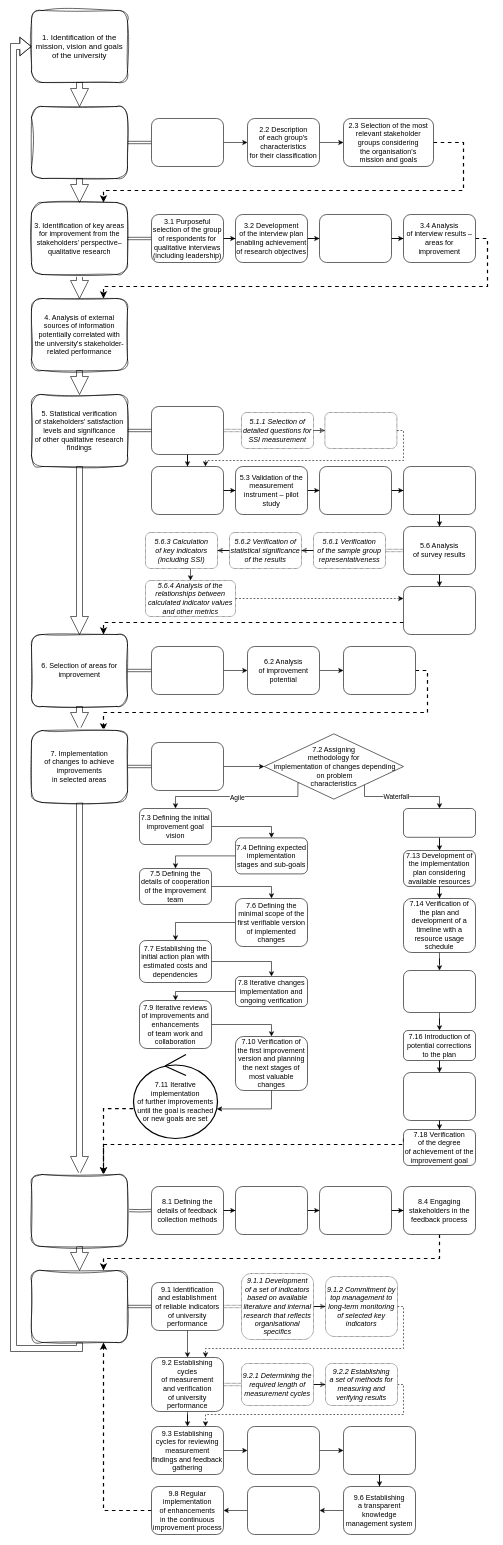
This 503x1545 diagram has some shape labels left out. The shapes that lost their labels are listed below. From the top down, each one's centre as x and y in pixels, then its label:
At [79,142]: "2. Identyfication of key stakeholders".
At [187,142]: "2.1 Analysis of the broad spectrum of potential university stakeholders".
At [355,238]: "3.3 Conducting qualitative research interviews".
At [187,430]: "5.1 Development of the research instrument".
At [360,430]: "5.1.2 Development of additional questions".
At [187,490]: "5.2 Selection of a sampling method for the research group".
At [355,490]: "5.4 Implementation of necessary corrections to the instrument".
At [439,490]: "5.5 Conducting the main survey".
At [439,610]: "5.7 Preparation of the research report".
At [187,670]: "6.1 Analysis of root causes of challenges identified in the research".
At [379,670]: "6.3 Selection of detailed improvement areas".
At [187,766]: "7.1 Ensuring leadership commitment and support".
At [439,822]: "7.12 Detailed definition of the improvement goal".
At [439,991]: "7.15 Identification of the project’s critical path and key risks for monitoring".
At [439,1096]: "7.17 Plan implementation and monitoring to identify necessary corrections".
At [79,1210]: "8. Planning contionous feedback collection".
At [271,1210]: "8.2 Planning regular feedback collection cycles".
At [355,1210]: "8.3 Automating the feedback collection process whereever possible".
At [79,1306]: "9. Continous improvement".
At [283,1450]: "9.4 Establishing cycles of regular analysis of improvement areas".
At [379,1450]: "9.5 Planning methods to celebrate success within the organisation".
At [283,1510]: "9.7 Establishing rules for regular reviewing improvement processes".
